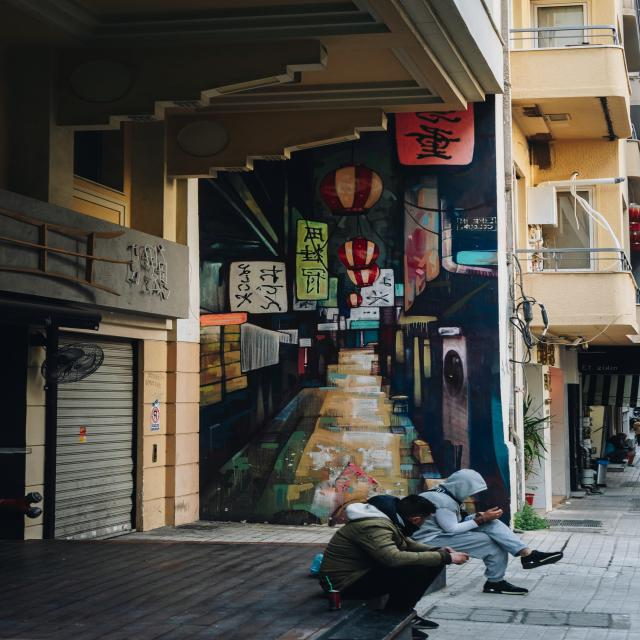adult: (319, 494, 468, 624), (411, 468, 560, 594)
